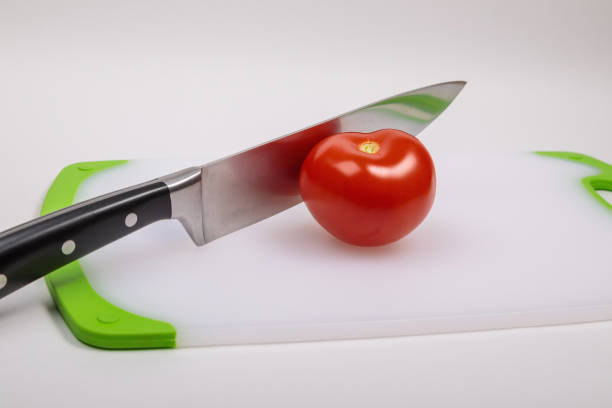knife: (0, 79, 469, 303)
